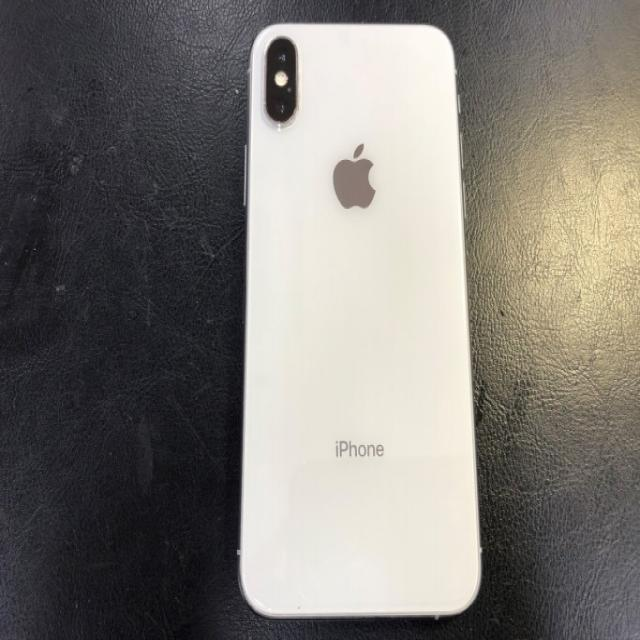phone: (236, 19, 484, 624)
